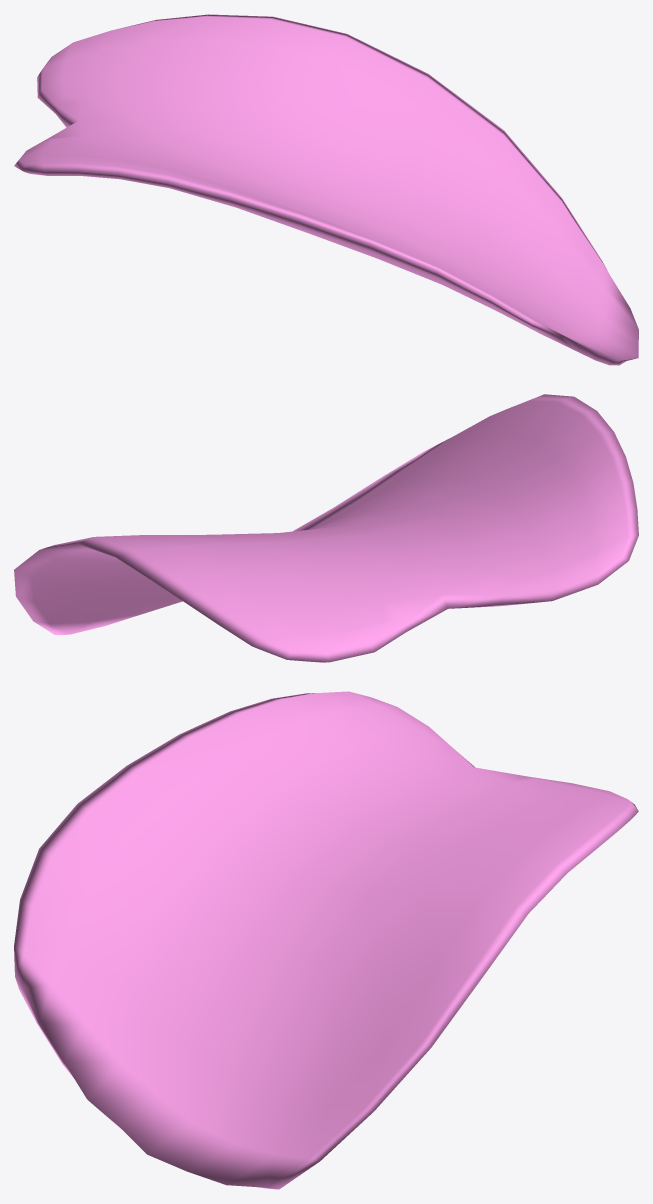
File: pedal_v2.obj
3 views of the same model, one above another, from view 1: azimuth 30°, elevation 25°; view 2: azimuth 150°, elevation 25°; view 3: azimuth 270°, elevation 25° (orthographic). The views are drawn at different scales.
Visible parts, largest first — view 1: polySurface1 pSphere19; view 2: polySurface1 pSphere19; view 3: polySurface1 pSphere19.
Part boxes in pixels (x1=…): polySurface1 pSphere19: x1=14, y1=14, x2=638, y2=365; polySurface1 pSphere19: x1=14, y1=394, x2=638, y2=662; polySurface1 pSphere19: x1=14, y1=691, x2=638, y2=1189.
Size of the model in its own units: 3.93 by 1.78 by 3.94.
